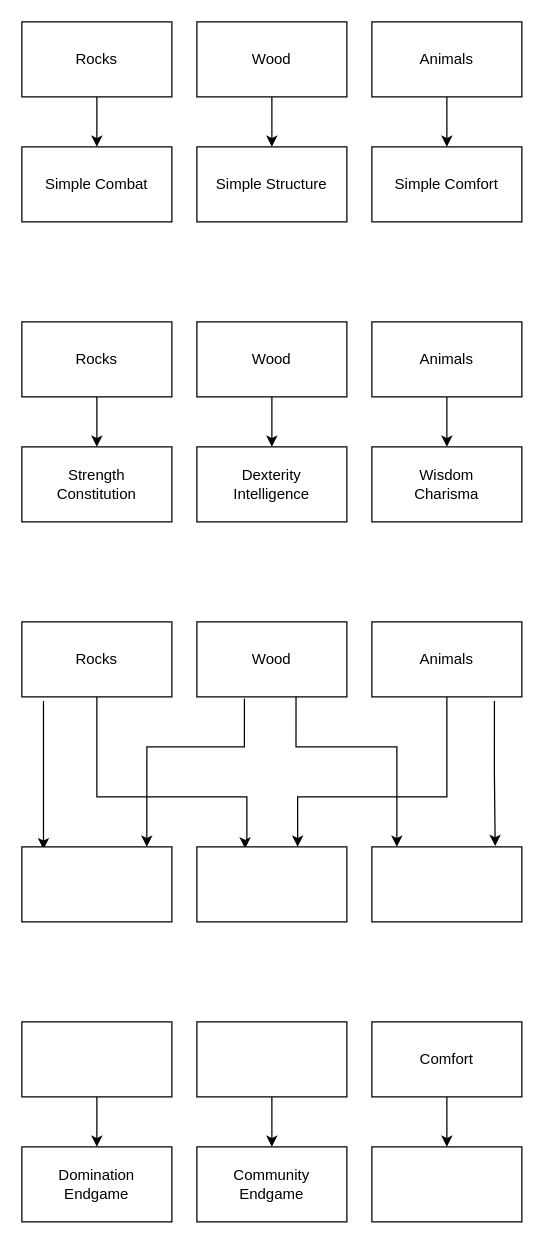
This 544x1244 diagram has some shape labels left out. The box of each missing label's shape, as (x1, y1, x2, y2) in pixels:
Combat: (21, 1021, 172, 1097)
Complex Combat: (21, 846, 172, 922)
Complex Comfort: (196, 846, 347, 922)
Complex Structure: (371, 846, 522, 922)
Entertainment Endgame: (371, 1146, 522, 1222)
Structure: (196, 1021, 347, 1097)
